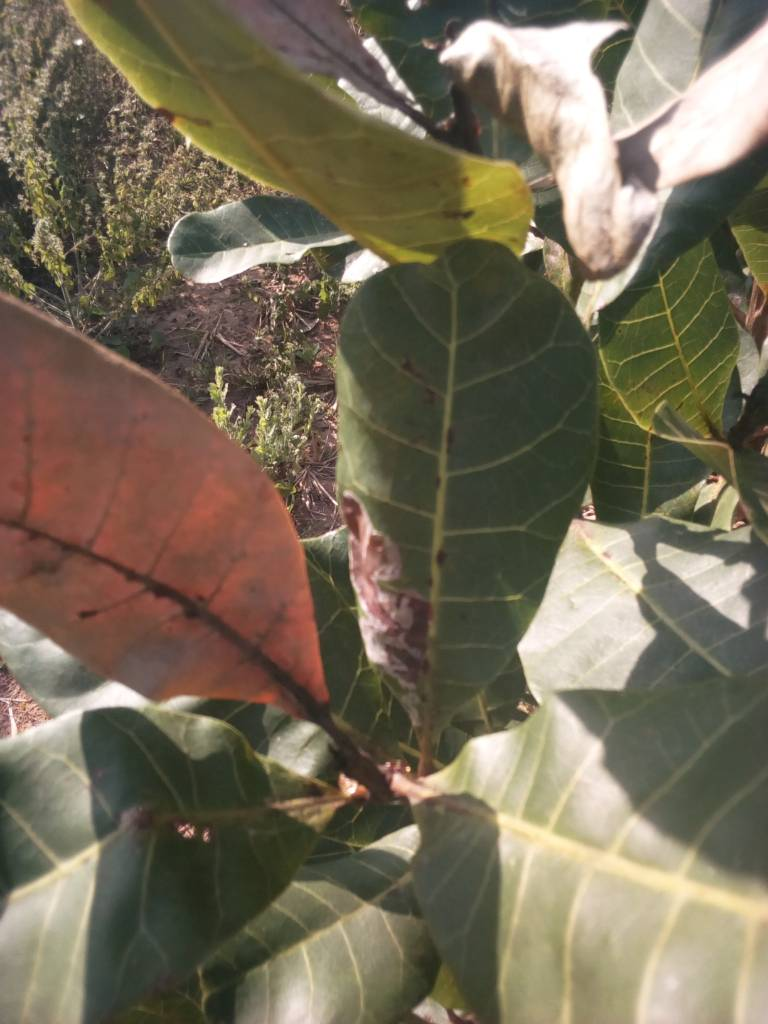Die-black: (324, 249, 621, 763), (439, 21, 692, 277)
